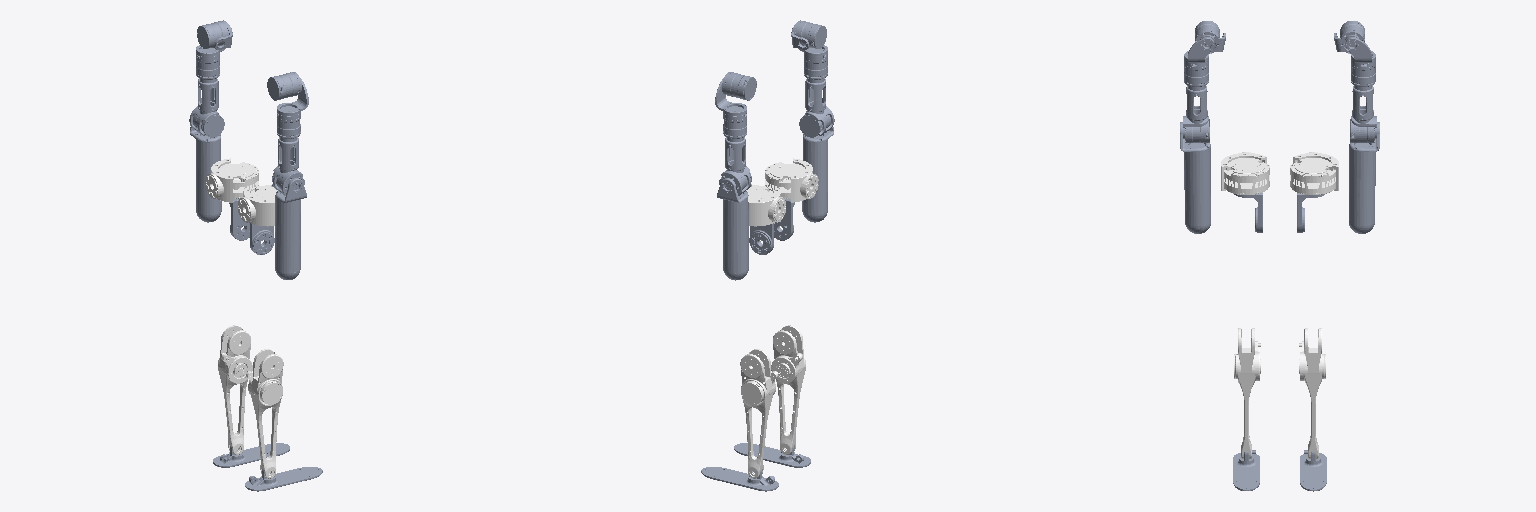
--- Render facts (derived) ---
3 views of the same robot in one strip: view 1: azimuth 30°, elevation 25°; view 2: azimuth 150°, elevation 25°; view 3: azimuth 270°, elevation 25° (orthographic).
Robot: wow002 — 20 links, 19 joints (10 revolute, 9 fixed); root link pelvis; default pose: every joint at zero.
Links seen in each view (by area): view 1: right_knee_link, left_knee_link, right_elbow_link, left_elbow_link, left_hip_roll_link, left_shoulder_yaw_link, right_hip_roll_link, right_shoulder_yaw_link, right_ankle_link, right_shoulder_roll_link, left_shoulder_pitch_link, left_ankle_link (+3 smaller); view 2: left_knee_link, right_knee_link, left_elbow_link, right_elbow_link, right_hip_roll_link, right_shoulder_yaw_link, left_hip_roll_link, left_shoulder_yaw_link, left_ankle_link, left_shoulder_roll_link, right_shoulder_pitch_link, right_ankle_link (+3 smaller); view 3: right_elbow_link, left_elbow_link, left_hip_roll_link, right_hip_roll_link, right_knee_link, left_knee_link, right_shoulder_yaw_link, left_shoulder_yaw_link, left_shoulder_roll_link, right_shoulder_roll_link, left_ankle_link, right_ankle_link (+2 smaller).
Link boxes in pixels (left/top/right/bottom): right_knee_link: left=246, top=349, right=283, bottom=478; left_knee_link: left=218, top=325, right=252, bottom=454; right_elbow_link: left=275, top=178, right=306, bottom=279; left_elbow_link: left=190, top=127, right=221, bottom=222; left_hip_roll_link: left=205, top=158, right=258, bottom=202; left_shoulder_yaw_link: left=189, top=74, right=224, bottom=137; right_hip_roll_link: left=238, top=185, right=277, bottom=226; right_shoulder_yaw_link: left=272, top=132, right=304, bottom=195; right_ankle_link: left=245, top=467, right=322, bottom=491; right_shoulder_roll_link: left=277, top=78, right=308, bottom=136; left_shoulder_pitch_link: left=197, top=20, right=232, bottom=49; left_ankle_link: left=213, top=443, right=289, bottom=467; left_knee_link: left=740, top=349, right=778, bottom=478; right_knee_link: left=771, top=325, right=805, bottom=454; left_elbow_link: left=717, top=178, right=748, bottom=280; right_elbow_link: left=802, top=127, right=833, bottom=222; right_hip_roll_link: left=765, top=158, right=818, bottom=202; right_shoulder_yaw_link: left=799, top=73, right=834, bottom=137; left_hip_roll_link: left=746, top=185, right=785, bottom=226; left_shoulder_yaw_link: left=719, top=131, right=751, bottom=195; left_ankle_link: left=701, top=467, right=778, bottom=491; left_shoulder_roll_link: left=715, top=78, right=746, bottom=136; right_shoulder_pitch_link: left=791, top=20, right=826, bottom=49; right_ankle_link: left=734, top=443, right=810, bottom=467; right_elbow_link: left=1180, top=122, right=1210, bottom=233; left_elbow_link: left=1349, top=122, right=1379, bottom=233; left_hip_roll_link: left=1290, top=152, right=1338, bottom=194; right_hip_roll_link: left=1221, top=152, right=1269, bottom=194; right_knee_link: left=1234, top=328, right=1260, bottom=458; left_knee_link: left=1299, top=328, right=1325, bottom=458; right_shoulder_yaw_link: left=1183, top=81, right=1209, bottom=142; left_shoulder_yaw_link: left=1350, top=81, right=1376, bottom=142; left_shoulder_roll_link: left=1345, top=37, right=1375, bottom=84; right_shoulder_roll_link: left=1184, top=37, right=1214, bottom=84; left_ankle_link: left=1300, top=450, right=1326, bottom=491; right_ankle_link: left=1233, top=450, right=1259, bottom=490.
Bounding box of the posed robot: 0.2098 × 0.4497 × 1.08 m (x, y, z).
Meshes: 20 distinct files referenced, 16 mesh visuals loaded (16 binary STL); not drawn: 4 (reference not matched to a file when rendering).

URDF robot description (wow002):
<?xml version="1.0" encoding="utf-8"?>
<!-- This URDF was automatically created by SolidWorks to URDF Exporter! Originally created by Stephen Brawner ([email redacted]) 
     Commit Version: 1.6.0-4-g7f85cfe  Build Version: 1.6.7995.38578
     For more information, please see http://wiki.ros.org/sw_urdf_exporter -->
<robot
  name="wow002">
  <link
    name="pelvis">

    <inertial>
      <origin
        xyz="-0.06455164 7.184e-05 -0.03678152"
        rpy="0 0 0" />
      <mass
        value="2.6836579" />
      <inertia
        ixx="0.01366036"
        ixy="4.02e-06"
        ixz="-0.00096822"
        iyy="0.00468233"
        iyz="-4.99e-06"
        izz="0.01556904" />
    </inertial>

    <visual>
      <origin
        xyz="0 0 0"
        rpy="0 0 0" />
      <geometry>
        <mesh
          filename="../meshes/pelvis.STL" />
      </geometry>
      <material
        name="">
        <color
          rgba="0.79216 0.81961 0.93333 1" />
      </material>
    </visual>
    <collision>
      <origin
        xyz="-0.08 0 0"
        rpy="0 0 0" />
      <geometry>
        <box size="0.055 0.26 0.11"/>
      </geometry>
    </collision>
  </link>
  <link
    name="left_hip_roll_link">
    <inertial>
      <origin
        xyz="0.06091912 0.00137016 0.0006284"
        rpy="0 0 0" />
      <mass
        value="1.03840785" />
      <inertia
        ixx="0.00029429"
        ixy="1.032e-05"
        ixz="-2.24e-06"
        iyy="0.00037781"
        iyz="7.3e-07"
        izz="0.00050007" />
    </inertial>

    <visual>
      <origin
        xyz="0 0 0"
        rpy="0 0 0" />
      <geometry>
        <mesh
          filename="../meshes/left_hip_roll_link.STL" />
      </geometry>
      <material
        name="">
        <color
          rgba="1 1 1 1" />
      </material>
    </visual>
    <collision>
      <origin
        xyz="0 0 0"
        rpy="0 0 0" />
      <geometry>
        <mesh
          filename="../meshes/left_hip_roll_link.STL" />
      </geometry>
    </collision>
  </link>
  <joint
    name="left_hip_roll_joint"
    type="revolute">
    <origin
      xyz="-0.054784 0.075 -0.042"
      rpy="0 0 0" />
    <parent
      link="pelvis" />
    <child
      link="left_hip_roll_link" />
    <axis
      xyz="1 0 0" />
    <limit
      lower="-0.1"
      upper="1"
      effort="80"
      velocity="15" />
  </joint>
  <link
    name="left_hip_yaw_link">


    <inertial>
      <origin
        xyz="0.0 -0.01974414 -0.04022558"
        rpy="0 0 0" />
      <mass
        value="0.3035" />
      <inertia
        ixx="0.00045263"
        ixy="-0.0"
        ixz="-0.0"
        iyy="0.00045054"
        iyz="-9.874e-05"
        izz="0.00016735" />
    </inertial>
    <visual>
      <origin
        xyz="0 0 0"
        rpy="0 0 0" />
      <geometry>
        <mesh
          filename="../meshes/left_hip_yaw_link.STL" />
      </geometry>
      <material
        name="">
        <color
          rgba="0.66667 0.69804 0.76863 1" />
      </material>
    </visual>
    <!-- <collision>
      <origin
        xyz="0 0 0"
        rpy="0 0 0" />
      <geometry>
        <mesh
          filename="../meshes/left_hip_yaw_link.STL" />
      </geometry>
    </collision> -->
  </link>
  <joint
    name="left_hip_yaw_joint"
    type="revolute">
    <origin
      xyz="0.0648 0 -0.02725"
      rpy="0 0 0" />
    <parent
      link="left_hip_roll_link" />
    <child
      link="left_hip_yaw_link" />
    <axis
      xyz="0 0 1" />
    <limit
      lower="-0.7"
      upper="0.7"
      effort="90"
      velocity="15" />  
  </joint>
  <link
    name="left_hip_pitch_link">
    <inertial>
      <origin
        xyz="-0.0007288 0.00132281 -0.09181702"
        rpy="0 0 0" />
      <mass
        value="4.1691243" />
      <inertia
        ixx="0.03196599"
        ixy="-0.00010018"
        ixz="-0.00042031"
        iyy="0.03363389"
        iyz="-0.00064667"
        izz="0.0029827" />
    </inertial>
    <visual>
      <origin
        xyz="0 0 0"
        rpy="0 0 0" />
      <geometry>
        <mesh
          filename="../meshes/left_hip_pitch_link.STL" />
      </geometry>
      <material
        name="">
        <color
          rgba="0.98824 1 0.88235 1" />
      </material>
    </visual>
    <collision>
      <origin
        xyz="0 0 0"
        rpy="0 0 0" />
      <geometry>
        <mesh
          filename="../meshes/left_hip_pitch_link.STL" />
      </geometry>
    </collision>
  </link>
  <joint
    name="left_hip_pitch_joint"
    type="revolute">
    <origin
      xyz="0 0 -0.082"
      rpy="0 0 0" />
    <parent
      link="left_hip_yaw_link" />
    <child
      link="left_hip_pitch_link" />
    <axis
      xyz="0 1 0" />
    <limit
      lower="-1.2"
      upper="0.5"
      effort="130"
      velocity="13" />
  </joint>
  <link
    name="left_knee_link">
    <inertial>
      <origin
        xyz="-0.00759962 -0.00763316 -0.0876891"
        rpy="0 0 0" />
      <mass
        value="1.13156874" />
      <inertia
        ixx="0.00563088"
        ixy="-0.00011999"
        ixz="-0.0003535"
        iyy="0.00575105"
        iyz="-0.00015162"
        izz="0.00056885" />
    </inertial>

    <visual>
      <origin
        xyz="0 0 0"
        rpy="0 0 0" />
      <geometry>
        <mesh
          filename="../meshes/left_knee_link.STL" />
      </geometry>
      <material
        name="">
        <color
          rgba="1 1 1 1" />
      </material>
    </visual>
    <collision>
      <origin
        xyz="0 0 0"
        rpy="0 0 0" />
      <geometry>
        <mesh
          filename="../meshes/left_knee_link.STL" />
      </geometry>
    </collision>

    <collision>
      <origin xyz="-0.03 -0.04 -0.1" rpy="0 0 0" />
      <geometry>
        <cylinder radius="0.01" length="0.1"/>
      </geometry>
    </collision>

    <collision>
      <origin xyz="-0.03 -0.015 -0.25" rpy="0 0 0" />
      <geometry>
        <cylinder radius="0.01" length="0.1"/>
      </geometry>
    </collision>

    <collision>
      <origin xyz="-0.03 -0.0275 -0.175" rpy="0.3 0 0" />
      <geometry>
        <cylinder radius="0.01" length="0.05"/>
      </geometry>
    </collision>

  </link>
  <joint
    name="left_knee_joint"
    type="revolute">
    <origin
      xyz="0 0 -0.3"
      rpy="0 0 0" />
    <parent
      link="left_hip_pitch_link" />
    <child
      link="left_knee_link" />
    <axis
      xyz="0 1 0" />
    <limit
      lower="-0.5"
      upper="1.5"
      effort="130"
      velocity="13" />
  </joint>
  <link
    name="left_ankle_link">
    <inertial>
      <origin
        xyz="0.02790091 -0.0003417 -0.02643514"
        rpy="0 0 0" />
      <mass
        value="0.332" />
      <inertia
        ixx="8.94e-05"
        ixy="-7.21e-06"
        ixz="3.684e-05"
        iyy="0.00088173"
        iyz="9.9e-07"
        izz="0.00093571" />
    </inertial>
    <visual>
      <origin
        xyz="0 0 0"
        rpy="0 0 0" />
      <geometry>
        <mesh
          filename="../meshes/left_ankle_link.STL" />
      </geometry>
      <material
        name="">
        <color
          rgba="0.66667 0.69804 0.76863 1" />
      </material>
    </visual>
    <collision>
      <origin
        xyz="0 0 0"
        rpy="0 0 0" />
      <geometry>
        <mesh
          filename="../meshes/left_ankle_link.STL" />
      </geometry>
    </collision>
  </link>
  <joint
    name="left_ankle_joint"
    type="revolute">
    <origin
      xyz="0 0 -0.275"
      rpy="0 0 0" />
    <parent
      link="left_knee_link" />
    <child
      link="left_ankle_link" />
    <axis
      xyz="0 1 0" />
    <limit
      lower="-1.0"
      upper="1.0"
      effort="30"
      velocity="8.5" />
  </joint>
  <link
    name="right_hip_roll_link">
    <inertial>
      <origin
        xyz="0.06111611 -0.00136437 0.00062839"
        rpy="0 0 0" />
      <mass
        value="1.03840785" />
      <inertia
        ixx="0.0002943"
        ixy="-1.034e-05"
        ixz="-2.23e-06"
        iyy="0.00037778"
        iyz="-7.5e-07"
        izz="0.00050006" />
    </inertial>
    <visual>
      <origin
        xyz="0 0 0"
        rpy="0 0 0" />
      <geometry>
        <mesh
          filename="../meshes/right_hip_roll_link.STL" />
      </geometry>
      <material
        name="">
        <color
          rgba="1 1 1 1" />
      </material>
    </visual>
    <collision>
      <origin
        xyz="0 0 0"
        rpy="0 0 0" />
      <geometry>
        <mesh
          filename="../meshes/right_hip_roll_link.STL" />
      </geometry>
    </collision>
  </link>
  <joint
    name="right_hip_roll_joint"
    type="revolute">
    <origin
      xyz="-0.054984 -0.075 -0.042"
      rpy="0 0 0" />
    <parent
      link="pelvis" />
    <child
      link="right_hip_roll_link" />
    <axis
      xyz="1 0 0" />
    <limit
      lower="-1"
      upper="0.1"
      effort="80"
      velocity="15" />
  </joint>
  <link
    name="right_hip_yaw_link">


    <inertial>
      <origin
        xyz="0.0 0.01974414 -0.04022558"
        rpy="0 0 0" />
      <mass
        value="0.3035" />
      <inertia
        ixx="0.00045263"
        ixy="-0.0"
        ixz="-0.0"
        iyy="0.00045054"
        iyz="9.874e-05"
        izz="0.00016735" />
    </inertial>
    <visual>
      <origin
        xyz="0 0 0"
        rpy="0 0 0" />
      <geometry>
        <mesh
          filename="../meshes/right_hip_yaw_link.STL" />
      </geometry>
      <material
        name="">
        <color
          rgba="0.66667 0.69804 0.76863 1" />
      </material>
    </visual>
    <!-- <collision>
      <origin
        xyz="0 0 0"
        rpy="0 0 0" />
      <geometry>
        <mesh
          filename="../meshes/right_hip_yaw_link.STL" />
      </geometry>
    </collision> -->
  </link>
  <joint
    name="right_hip_yaw_joint"
    type="revolute">
    <origin
      xyz="0.065 0 -0.02725"
      rpy="0 0 0" />
    <parent
      link="right_hip_roll_link" />
    <child
      link="right_hip_yaw_link" />
    <axis
      xyz="0 0 1" />
    <limit
      lower="-0.7"
      upper="0.7"
      effort="80"
      velocity="15" />
  </joint>
  <link
    name="right_hip_pitch_link">
    <inertial>
      <origin
        xyz="-0.00072873 -0.00132281 -0.09181702"
        rpy="0 0 0" />
      <mass
        value="4.1691243" />
      <inertia
        ixx="0.03196599"
        ixy="0.00010019"
        ixz="-0.00042035"
        iyy="0.03363389"
        iyz="0.00064667"
        izz="0.0029827" />
    </inertial>
    <visual>
      <origin
        xyz="0 0 0"
        rpy="0 0 0" />
      <geometry>
        <mesh
          filename="../meshes/right_hip_pitch_link.STL" />
      </geometry>
      <material
        name="">
        <color
          rgba="0.79216 0.81961 0.93333 1" />
      </material>
    </visual>
    <collision>
      <origin
        xyz="0 0 0"
        rpy="0 0 0" />
      <geometry>
        <mesh
          filename="../meshes/right_hip_pitch_link.STL" />
      </geometry>
    </collision>
  </link>
  <joint
    name="right_hip_pitch_joint"
    type="revolute">
    <origin
      xyz="0 0 -0.082"
      rpy="0 0 0" />
    <parent
      link="right_hip_yaw_link" />
    <child
      link="right_hip_pitch_link" />
    <axis
      xyz="0 1 0" />
    <limit
      lower="-1.2"
      upper="0.5"
      effort="130"
      velocity="13" />
  </joint>
  <link
    name="right_knee_link">

    <inertial>
      <origin
        xyz="-0.00759465 0.00760875 -0.08797483"
        rpy="0 0 0" />
      <mass
        value="1.13133312" />
      <inertia
        ixx="0.00568577"
        ixy="0.00011869"
        ixz="-0.00036071"
        iyy="0.00580729"
        iyz="0.0001542"
        izz="0.0005665" />
    </inertial>
    <visual>
      <origin
        xyz="0 0 0"
        rpy="0 0 0" />
      <geometry>
        <mesh
          filename="../meshes/right_knee_link.STL" />
      </geometry>
      <material
        name="">
        <color
          rgba="1 1 1 1" />
      </material>
    </visual>
    <collision>
      <origin
        xyz="0 0 0"
        rpy="0 0 0" />
      <geometry>
        <mesh
          filename="../meshes/right_knee_link.STL" />
      </geometry>
    </collision>

    <collision>
      <origin xyz="-0.03 0.04 -0.1" rpy="0 0 0" />
      <geometry>
        <cylinder radius="0.01" length="0.1"/>
      </geometry>
    </collision>

    <collision>
      <origin xyz="-0.03 0.015 -0.25" rpy="0 0 0" />
      <geometry>
        <cylinder radius="0.01" length="0.1"/>
      </geometry>
    </collision>

    <collision>
      <origin xyz="-0.03 0.0275 -0.175" rpy="0.3 0 0" />
      <geometry>
        <cylinder radius="0.01" length="0.05"/>
      </geometry>
    </collision>


  </link>
  <joint
    name="right_knee_joint"
    type="revolute">
    <origin
      xyz="0 0 -0.3"
      rpy="0 0 0" />
    <parent
      link="right_hip_pitch_link" />
    <child
      link="right_knee_link" />
    <axis
      xyz="0 1 0" />
    <limit
      lower="-0.5"
      upper="1.5"
      effort="130"
      velocity="13" />
  </joint>
  <link
    name="right_ankle_link">
    <inertial>
      <origin
        xyz="0.02782273 0.00034253 -0.02643589"
        rpy="0 0 0" />
      <mass
        value="0.332" />
      <inertia
        ixx="8.939e-05"
        ixy="7.21e-06"
        ixz="3.674e-05"
        iyy="0.00088116"
        iyz="-9.9e-07"
        izz="0.00093514" />
    </inertial>
    <visual>
      <origin
        xyz="0 0 0"
        rpy="0 0 0" />
      <geometry>
        <mesh
          filename="../meshes/right_ankle_link.STL" />
      </geometry>
      <material
        name="">
        <color
          rgba="0.66667 0.69804 0.76863 1" />
      </material>
    </visual>
    <collision>
      <origin
        xyz="0 0 0"
        rpy="0 0 0" />
      <geometry>
        <mesh
          filename="../meshes/right_ankle_link.STL" />
      </geometry>
    </collision>
  </link>
  <joint
    name="right_ankle_joint"
    type="revolute">
    <origin
      xyz="0 0 -0.275"
      rpy="0 0 0" />
    <parent
      link="right_knee_link" />
    <child
      link="right_ankle_link" />
    <axis
      xyz="0 1 0" />
    <limit
      lower="-1.0"
      upper="1.0"
      effort="30"
      velocity="8.5" />
  </joint>
  <link
    name="torso_link">
    <inertial>
      <origin
        xyz="-0.01146002 -3.565e-05 -0.01353896"
        rpy="0 0 0" />
      <mass
        value="5.23559427" />
      <inertia
        ixx="0.05191432"
        ixy="-0.00028145"
        ixz="0.00140847"
        iyy="0.04533288"
        iyz="0.00021184"
        izz="0.02612206" />
    </inertial>
    <visual>
      <origin
        xyz="0 0 0"
        rpy="0 0 0" />
      <geometry>
        <mesh
          filename="../meshes/torso_link.STL" />
      </geometry>
      <material
        name="">
        <color
          rgba="0.66667 0.69804 0.76863 1" />
      </material>
    </visual>
    <collision>
      <origin
        xyz="0 0 0"
        rpy="0 0 0" />
      <geometry>
        <mesh
          filename="../meshes/torso_link.STL" />
      </geometry>
    </collision>
  </link>
  <joint
    name="torso_joint"
    type="fixed">
    <origin
      xyz="-0.00048373 -3.6691E-05 0.19483"
      rpy="0 0 0" />
    <parent
      link="pelvis" />
    <child
      link="torso_link" />
    <axis
      xyz="0 0 0" />
  </joint>
  <link
    name="left_shoulder_pitch_link">

    <inertial>
      <origin
        xyz="0.00867069 0.03737021 0.00758579"
        rpy="0 0 0" />
      <mass
        value="0.4278" />
      <inertia
        ixx="6.451e-05"
        ixy="5.33e-06"
        ixz="1.07e-06"
        iyy="5.53e-05"
        iyz="-5.34e-06"
        izz="8.025e-05" />
    </inertial>
    <visual>
      <origin
        xyz="0 0 0"
        rpy="0 0 0" />
      <geometry>
        <mesh
          filename="../meshes/left_shoulder_pitch_link.STL" />
      </geometry>
      <material
        name="">
        <color
          rgba="0.66667 0.69804 0.76863 1" />
      </material>
    </visual>
    <collision>
      <origin
        xyz="0 0 0"
        rpy="0 0 0" />
      <geometry>
        <mesh
          filename="../meshes/left_shoulder_pitch_link.STL" />
      </geometry>
    </collision>
  </link>
  <joint
    name="left_shoulder_pitch_joint"
    type="fixed">
    <origin
      xyz="0 0.12376 0.094735"
      rpy="0 0 0" />
    <parent
      link="torso_link" />
    <child
      link="left_shoulder_pitch_link" />
    <axis
      xyz="0 -0.98003 -0.19884" />
    <limit
      lower="-1"
      upper="1"
      effort="30"
      velocity="8.5" />
  </joint>
  <link
    name="left_shoulder_roll_link">


    <inertial>
      <origin
        xyz="0.00429054 0.02340453 -0.07603842"
        rpy="0 0 0" />
      <mass
        value="0.459" />
      <inertia
        ixx="0.00028072"
        ixy="1.286e-05"
        ixz="-0.00011072"
        iyy="0.00033308"
        iyz="2.792e-05"
        izz="0.00011561" />
    </inertial>
    <visual>
      <origin
        xyz="0 0 0"
        rpy="0 0 0" />
      <geometry>
        <mesh
          filename="../meshes/left_shoulder_roll_link.STL" />
      </geometry>
      <material
        name="">
        <color
          rgba="0.66667 0.69804 0.76863 1" />
      </material>
    </visual>
    <collision>
      <origin
        xyz="0 0 0"
        rpy="0 0 0" />
      <geometry>
        <mesh
          filename="../meshes/left_shoulder_roll_link.STL" />
      </geometry>
    </collision>
  </link>
  <joint
    name="left_shoulder_roll_joint"
    type="fixed">
    <origin
      xyz="0 0.039397 0.0079934"
      rpy="0 0 0" />
    <parent
      link="left_shoulder_pitch_link" />
    <child
      link="left_shoulder_roll_link" />
    <axis
      xyz="-1 0 0" />
    <limit
      lower="-1"
      upper="1"
      effort="30"
      velocity="8.5" />
  </joint>
  <link
    name="left_shoulder_yaw_link">

    <inertial>
      <origin
        xyz="-0.00099705 0.00435809 -0.0983263"
        rpy="0 0 0" />
      <mass
        value="0.59864616" />
      <inertia
        ixx="0.00108407"
        ixy="5.7e-07"
        ixz="-1.424e-05"
        iyy="0.00107053"
        iyz="6.191e-05"
        izz="0.00013883" />
    </inertial>
    <visual>
      <origin
        xyz="0 0 0"
        rpy="0 0 0" />
      <geometry>
        <mesh
          filename="../meshes/left_shoulder_yaw_link.STL" />
      </geometry>
      <material
        name="">
        <color
          rgba="0.66667 0.69804 0.76863 1" />
      </material>
    </visual>
    <collision>
      <origin
        xyz="0 0 0"
        rpy="0 0 0" />
      <geometry>
        <mesh
          filename="../meshes/left_shoulder_yaw_link.STL" />
      </geometry>
    </collision>
  </link>
  <joint
    name="left_shoulder_yaw_joint"
    type="fixed">
    <origin
      xyz="0 0.023977 -0.11053"
      rpy="0 0 0" />
    <parent
      link="left_shoulder_roll_link" />
    <child
      link="left_shoulder_yaw_link" />
    <axis
      xyz="0 0.0092635 0.99996" />
    <limit
      lower="-1"
      upper="1"
      effort="30"
      velocity="8.5" />
  </joint>
  <link
    name="left_elbow_link">
    <inertial>
      <origin
        xyz="2.92e-06 0.00688809 -0.09939661"
        rpy="0 0 0" />
      <mass
        value="0.127" />
      <inertia
        ixx="0.00074342"
        ixy="-0.0"
        ixz="-2e-08"
        iyy="0.00072358"
        iyz="-8.742e-05"
        izz="8.147e-05" />
    </inertial>
    <visual>
      <origin
        xyz="0 0 0"
        rpy="0 0 0" />
      <geometry>
        <mesh
          filename="../meshes/left_elbow_link.STL" />
      </geometry>
      <material
        name="">
        <color
          rgba="0.66667 0.69804 0.76863 1" />
      </material>
    </visual>
    <!-- <collision>
      <origin
        xyz="0 0 0"
        rpy="0 0 0" />
      <geometry>
        <mesh
          filename="../meshes/left_elbow_link.STL" />
      </geometry>
    </collision> -->
  </link>
  <joint
    name="left_elbow_joint"
    type="fixed">
    <origin
      xyz="0 -0.001132 -0.12219"
      rpy="0 0 0" />
    <parent
      link="left_shoulder_yaw_link" />
    <child
      link="left_elbow_link" />
    <axis
      xyz="0 -0.99996 0.0092635" />
    <limit
      lower="-1.5"
      upper="1.5"
      effort="30"
      velocity="8.5" />
  </joint>
  <link
    name="right_shoulder_pitch_link">


    <inertial>
      <origin
        xyz="0.00867069 -0.03737159 0.00758363"
        rpy="0 0 0" />
      <mass
        value="0.4278" />
      <inertia
        ixx="6.451e-05"
        ixy="-5.31e-06"
        ixz="1.1e-06"
        iyy="5.524e-05"
        iyz="5.31e-06"
        izz="8.031e-05" />
    </inertial>
    <visual>
      <origin
        xyz="0 0 0"
        rpy="0 0 0" />
      <geometry>
        <mesh
          filename="../meshes/right_shoulder_pitch_link.STL" />
      </geometry>
      <material
        name="">
        <color
          rgba="0.66667 0.69804 0.76863 1" />
      </material>
    </visual>
    <collision>
      <origin
        xyz="0 0 0"
        rpy="0 0 0" />
      <geometry>
        <mesh
          filename="../meshes/right_shoulder_pitch_link.STL" />
      </geometry>
    </collision>
  </link>
  <joint
    name="right_shoulder_pitch_joint"
    type="fixed">
    <origin
      xyz="0 -0.12358 0.094735"
      rpy="0 0 0" />
    <parent
      link="torso_link" />
    <child
      link="right_shoulder_pitch_link" />
    <axis
      xyz="0 0.98003 -0.19884" />
    <limit
      lower="-1"
      upper="1"
      effort="30"
      velocity="8.5" />
  </joint>
  <link
    name="right_shoulder_roll_link">


    <inertial>
      <origin
        xyz="0.00429169 -0.02340291 -0.07603682"
        rpy="0 0 0" />
      <mass
        value="0.459" />
      <inertia
        ixx="0.0002808"
        ixy="-1.285e-05"
        ixz="-0.00011076"
        iyy="0.00033317"
        iyz="-2.797e-05"
        izz="0.00011564" />
    </inertial>
    <visual>
      <origin
        xyz="0 0 0"
        rpy="0 0 0" />
      <geometry>
        <mesh
          filename="../meshes/right_shoulder_roll_link.STL" />
      </geometry>
      <material
        name="">
        <color
          rgba="0.66667 0.69804 0.76863 1" />
      </material>
    </visual>
    <collision>
      <origin
        xyz="0 0 0"
        rpy="0 0 0" />
      <geometry>
        <mesh
          filename="../meshes/right_shoulder_roll_link.STL" />
      </geometry>
    </collision>
  </link>
  <joint
    name="right_shoulder_roll_joint"
    type="fixed">
    <origin
      xyz="0 -0.039397 0.0079934"
      rpy="0 0 0" />
    <parent
      link="right_shoulder_pitch_link" />
    <child
      link="right_shoulder_roll_link" />
    <axis
      xyz="-1 0 0" />
    <limit
      lower="-1"
      upper="1"
      effort="30"
      velocity="8.5" />
  </joint>
  <link
    name="right_shoulder_yaw_link">


    <inertial>
      <origin
        xyz="-0.00101533 -0.0043536 -0.09834157"
        rpy="0 0 0" />
      <mass
        value="0.601" />
      <inertia
        ixx="0.00108567"
        ixy="-5.5e-07"
        ixz="-1.46e-05"
        iyy="0.00107209"
        iyz="-6.199e-05"
        izz="0.00014026" />
    </inertial>
    <visual>
      <origin
        xyz="0 0 0"
        rpy="0 0 0" />
      <geometry>
        <mesh
          filename="../meshes/right_shoulder_yaw_link.STL" />
      </geometry>
      <material
        name="">
        <color
          rgba="0.66667 0.69804 0.76863 1" />
      </material>
    </visual>
    <collision>
      <origin
        xyz="0 0 0"
        rpy="0 0 0" />
      <geometry>
        <mesh
          filename="../meshes/right_shoulder_yaw_link.STL" />
      </geometry>
    </collision>
  </link>
  <joint
    name="right_shoulder_yaw_joint"
    type="fixed">
    <origin
      xyz="0 -0.023977 -0.11053"
      rpy="0 0 0" />
    <parent
      link="right_shoulder_roll_link" />
    <child
      link="right_shoulder_yaw_link" />
    <axis
      xyz="0 -0.0092635 0.99996" />
    <limit
      lower="-1"
      upper="1"
      effort="30"
      velocity="8.5" />
  </joint>
  <link
    name="right_elbow_link">


    <inertial>
      <origin
        xyz="-2.92e-06 -0.00688809 -0.09939661"
        rpy="0 0 0" />
      <mass
        value="0.127" />
      <inertia
        ixx="0.00074342"
        ixy="-0.0"
        ixz="2e-08"
        iyy="0.00072358"
        iyz="8.742e-05"
        izz="8.147e-05" />
    </inertial>
    <visual>
      <origin
        xyz="0 0 0"
        rpy="0 0 0" />
      <geometry>
        <mesh
          filename="../meshes/right_elbow_link.STL" />
      </geometry>
      <material
        name="">
        <color
          rgba="0.66667 0.69804 0.76863 1" />
      </material>
    </visual>
    <!-- <collision>
      <origin
        xyz="0 0 0"
        rpy="0 0 0" />
      <geometry>
        <mesh
          filename="../meshes/right_elbow_link.STL" />
      </geometry>
    </collision> -->
  </link>
  <joint
    name="right_elbow_joint"
    type="fixed">
    <origin
      xyz="0 0.001132 -0.12219"
      rpy="0 0 0" />
    <parent
      link="right_shoulder_yaw_link" />
    <child
      link="right_elbow_link" />
    <axis
      xyz="0 0.99996 0.0092635" />
    <limit
      lower="-1.5"
      upper="1.5"
      effort="30"
      velocity="10" />
  </joint>
</robot>
